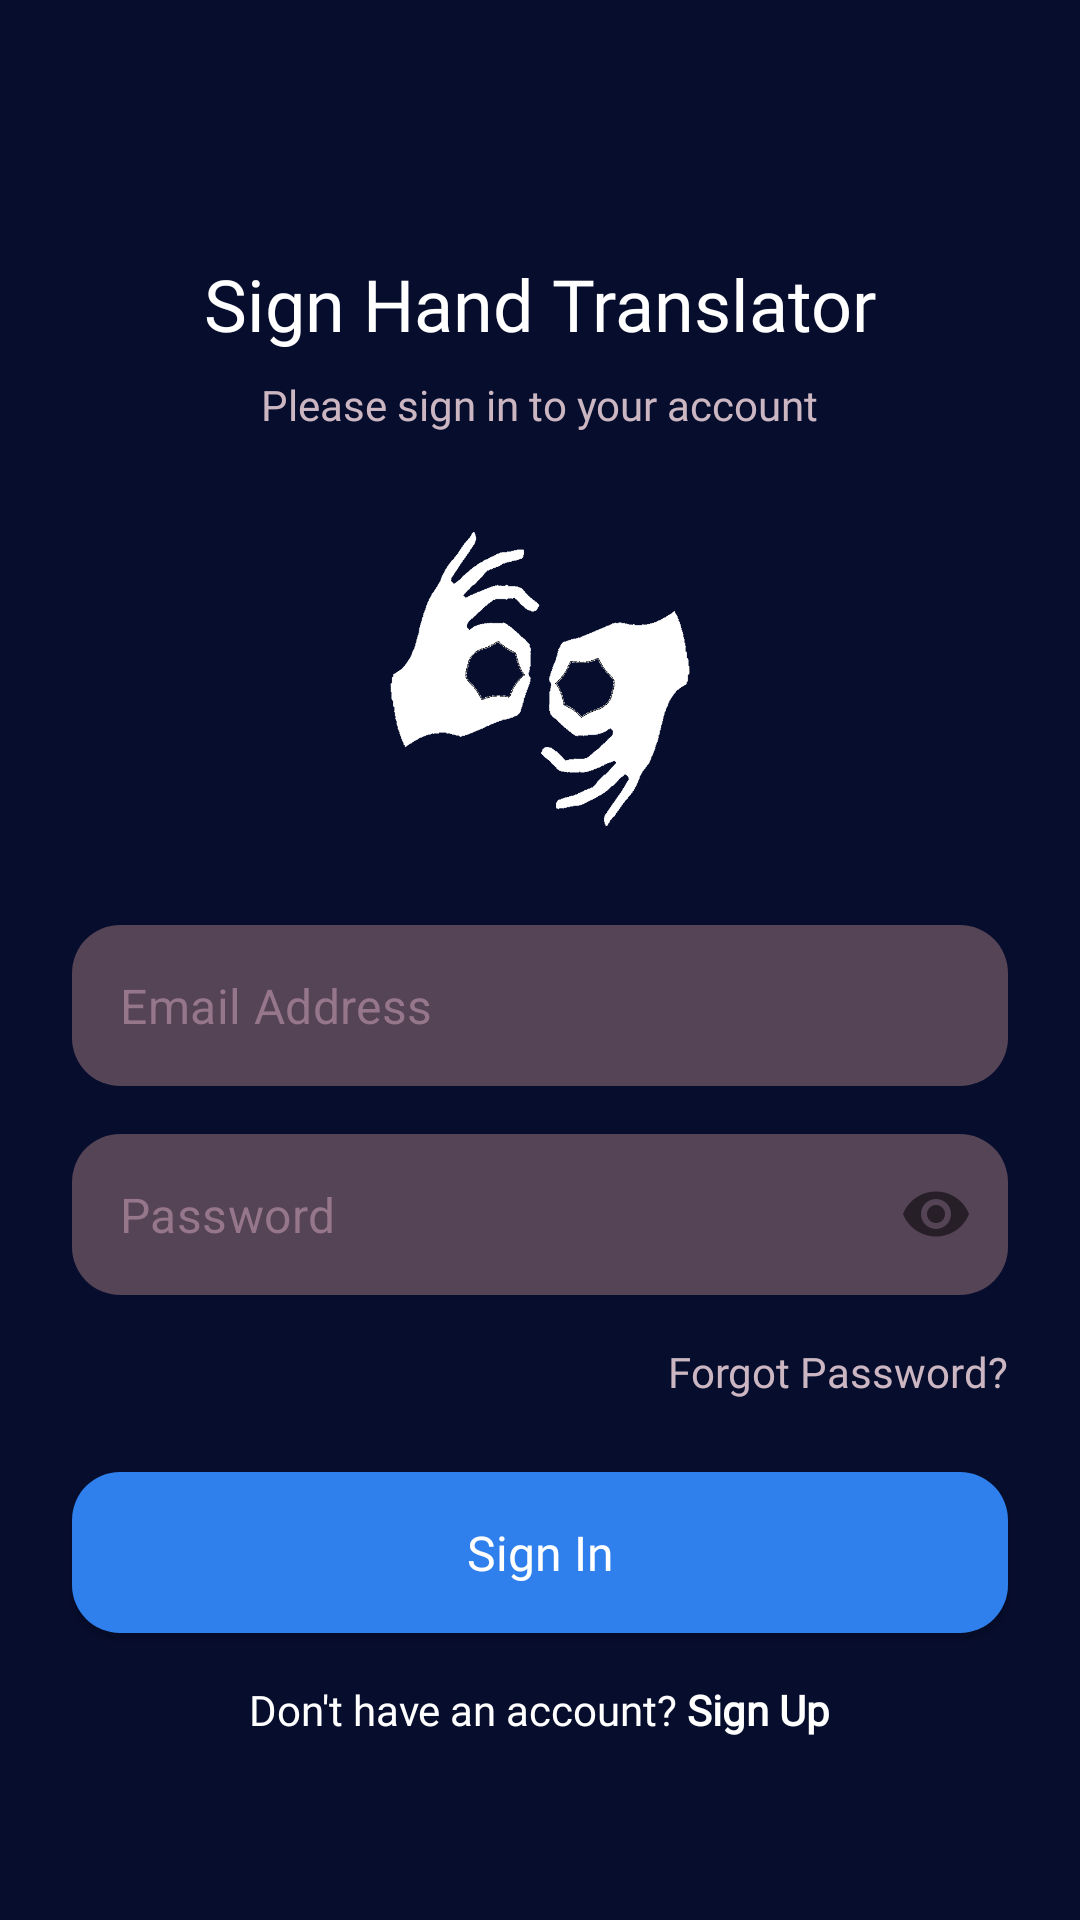

Locate icon controls on the screen. Image size 1080 × 1920, boxes as (x1,y1,x2,y2).
Sign Hand Translator: (390,532,690,827)
